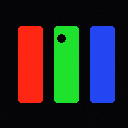0 point: (57, 34, 65, 42)
